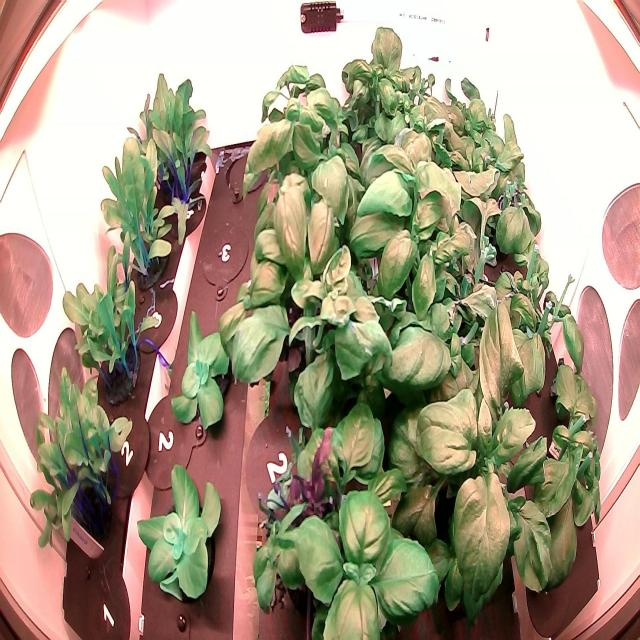empty_pod: (195, 207, 252, 306), (216, 132, 272, 208)
young: (134, 456, 226, 604), (168, 304, 238, 444)
